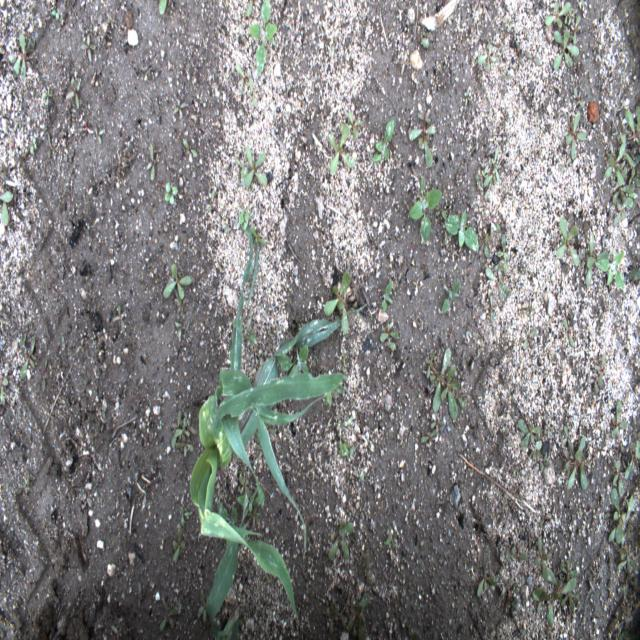crop: (188, 230, 344, 620), (206, 520, 242, 637)
weed: (426, 346, 460, 421), (408, 175, 443, 245), (248, 0, 278, 78), (323, 266, 352, 335), (575, 233, 608, 288), (408, 110, 437, 170), (562, 433, 590, 490), (440, 210, 480, 249), (328, 123, 354, 177), (594, 250, 624, 292), (544, 565, 578, 601), (162, 261, 192, 301), (556, 216, 580, 266), (608, 482, 627, 543), (564, 110, 586, 160), (327, 518, 353, 560), (216, 499, 244, 537), (243, 145, 268, 187), (12, 31, 34, 78), (371, 120, 395, 162), (346, 591, 367, 639), (483, 146, 499, 202), (486, 266, 510, 302), (552, 28, 573, 69), (605, 143, 624, 188), (337, 406, 354, 455), (533, 536, 549, 586), (518, 416, 542, 449), (610, 171, 634, 204), (609, 398, 628, 439), (541, 590, 560, 631), (544, 1, 571, 29), (623, 433, 639, 480), (620, 105, 639, 144), (19, 338, 36, 381), (477, 562, 499, 594), (379, 322, 400, 353), (610, 197, 633, 225), (158, 602, 180, 630), (442, 279, 459, 315), (477, 42, 496, 74), (558, 557, 577, 588), (552, 33, 580, 54), (233, 323, 260, 344), (173, 432, 196, 456), (496, 233, 510, 272), (379, 279, 394, 314), (236, 493, 264, 511), (612, 458, 625, 496), (530, 585, 545, 617), (66, 76, 80, 110), (173, 522, 185, 561), (345, 110, 360, 141), (327, 596, 338, 637), (81, 33, 96, 63), (596, 352, 608, 388), (222, 216, 240, 240), (618, 545, 636, 569), (364, 550, 374, 593), (0, 189, 12, 224), (111, 303, 127, 329), (198, 591, 211, 622), (561, 424, 574, 452), (562, 317, 573, 350), (521, 328, 536, 352), (561, 591, 579, 611), (163, 180, 179, 202), (484, 293, 495, 325), (570, 14, 582, 43), (175, 417, 190, 440), (429, 413, 444, 436), (252, 225, 270, 244), (484, 212, 501, 232), (148, 142, 156, 184), (172, 410, 180, 452), (249, 494, 261, 522), (84, 128, 106, 143), (538, 503, 553, 525), (604, 499, 617, 524), (586, 368, 598, 394), (626, 154, 639, 178), (184, 140, 198, 162), (522, 51, 541, 67), (184, 410, 197, 433), (238, 209, 250, 232), (0, 375, 9, 405), (478, 228, 487, 257), (173, 98, 186, 118), (236, 66, 252, 82), (508, 547, 529, 559), (560, 153, 572, 174), (181, 506, 193, 526), (573, 87, 583, 110), (175, 298, 187, 316), (250, 72, 256, 108), (384, 531, 396, 548), (544, 418, 554, 438), (539, 453, 550, 471), (419, 432, 437, 443), (174, 319, 186, 335), (240, 476, 250, 495), (421, 28, 431, 47), (568, 4, 577, 24), (41, 90, 52, 106), (42, 357, 47, 392), (210, 188, 216, 217), (260, 598, 268, 617), (50, 5, 60, 20), (158, 0, 168, 14), (30, 137, 36, 155), (110, 627, 122, 636), (246, 0, 252, 17), (146, 412, 152, 428), (525, 306, 534, 316), (158, 419, 162, 430)
